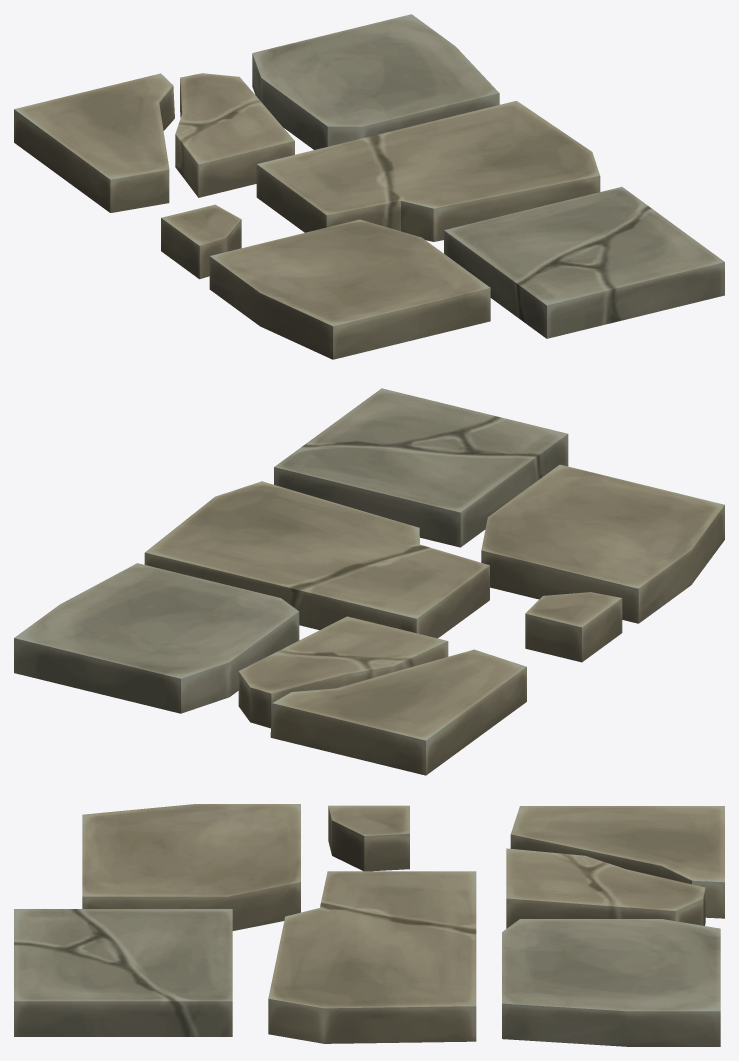
The model's file is Stairs_Debris2.fbx.
3 views of the same model, one above another, from view 1: azimuth 30°, elevation 25°; view 2: azimuth 150°, elevation 25°; view 3: azimuth 270°, elevation 25° (orthographic). The views are drawn at different scales.
Parts seen in each view (by area): view 1: polySurface657; view 2: polySurface657; view 3: polySurface657.
Part boxes in pixels (x1=…): polySurface657: x1=14, y1=14, x2=724, y2=359; polySurface657: x1=14, y1=388, x2=724, y2=775; polySurface657: x1=14, y1=804, x2=724, y2=1046.
Size of the model in its own units: 90.29 by 7.22 by 131.
1 material, 1 textured.
